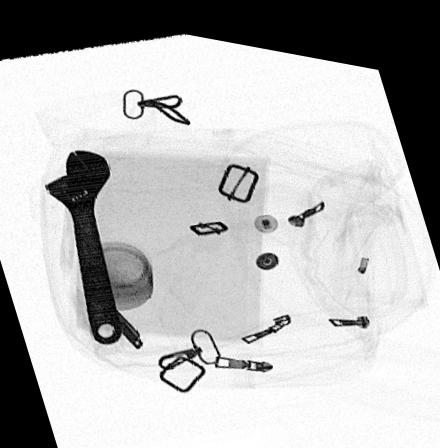Wrench: (43, 146, 125, 342)
